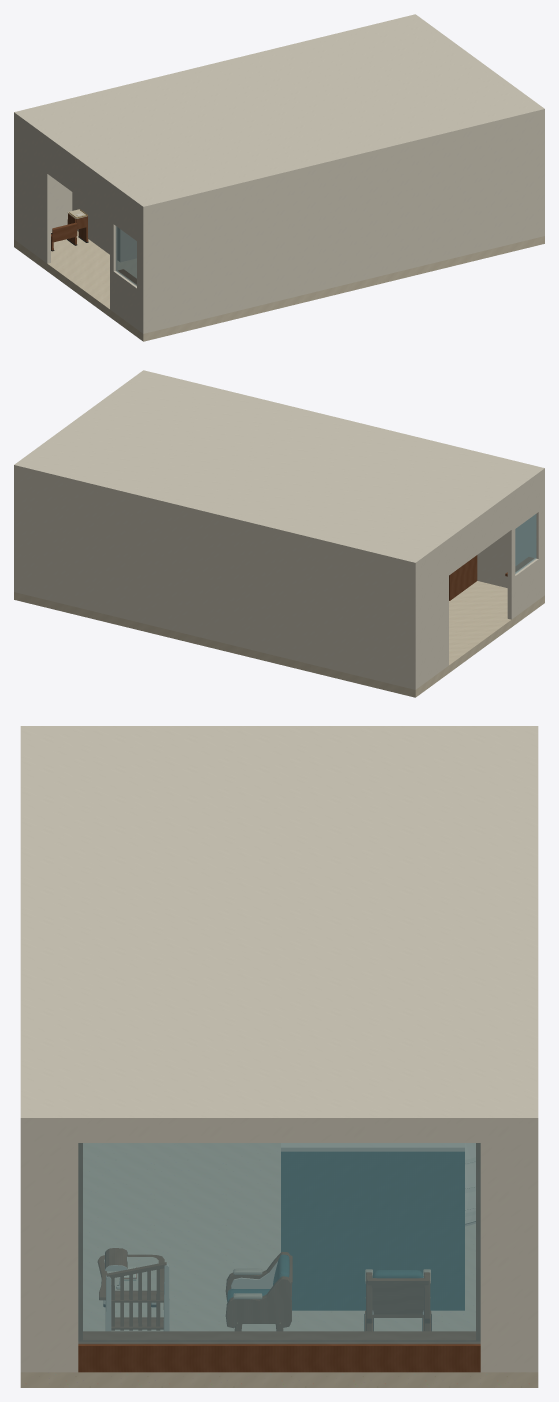
Rendered from QuietGroveBank_385_r001.glb.
3 views of the same model, one above another, from view 1: azimuth 30°, elevation 25°; view 2: azimuth 150°, elevation 25°; view 3: azimuth 270°, elevation 25° (orthographic). The views are drawn at different scales.
Visible parts, largest first — view 1: QG385_Ceiling, QG385_NorthSide, QG385_RoomFloor, QG385_EntryShoulderSouth, QG385_EntryHeader, QG385_StreetWindowLower, QG385_WashEntrySide, QG385_SouthSide, QG385_StreetWindowUpper, QG385_ScreenedStreetGlass, QGB385_CourtSouthPier; view 2: QG385_Ceiling, QG385_SouthSide, QG385_RoomFloor, QG385_EntryShoulderSouth, QG385_NorthSide, QG385_EntryHeader, QG385_StreetWindowLower, QG385_StreetWindowUpper, QG385_ScreenedStreetGlass, QG385_EntryPrivacyDogleg, QG385_StreetWindowInnerMullion; view 3: QG385_Ceiling, QGB385_PrivateCourtGlass, QG385_RoomFloor, QG385_Cocoon01_RearLiner, QGB385_CourtNorthPier, QGB385_CourtSouthPier, QGB385_CourtSill, QGB385_CourtHeader, QGB385_DeepReveal_0.34, QG385_SouthSide, QG385_NorthSide, QG385_QG385_DayReadingChair__DAY_CHAIR_L_swept_walnut_cheek (+5 smaller).
Boxes of the visible parts, x1=… form: QG385_Ceiling: x1=14, y1=14, x2=544, y2=211; QG385_NorthSide: x1=141, y1=114, x2=544, y2=333; QG385_RoomFloor: x1=14, y1=231, x2=544, y2=341; QG385_EntryShoulderSouth: x1=16, y1=119, x2=50, y2=263; QG385_EntryHeader: x1=47, y1=142, x2=110, y2=219; QG385_StreetWindowLower: x1=110, y1=269, x2=141, y2=331; QG385_WashEntrySide: x1=72, y1=192, x2=123, y2=261; QG385_SouthSide: x1=14, y1=117, x2=72, y2=240; QG385_StreetWindowUpper: x1=110, y1=188, x2=141, y2=243; QG385_ScreenedStreetGlass: x1=115, y1=226, x2=136, y2=285; QGB385_CourtSouthPier: x1=537, y1=114, x2=544, y2=236; QG385_Ceiling: x1=14, y1=370, x2=544, y2=567; QG385_SouthSide: x1=14, y1=470, x2=417, y2=689; QG385_RoomFloor: x1=14, y1=581, x2=544, y2=697; QG385_EntryShoulderSouth: x1=417, y1=544, x2=448, y2=687; QG385_NorthSide: x1=477, y1=473, x2=544, y2=596; QG385_EntryHeader: x1=448, y1=497, x2=512, y2=575; QG385_StreetWindowLower: x1=507, y1=556, x2=542, y2=619; QG385_StreetWindowUpper: x1=510, y1=475, x2=542, y2=531; QG385_ScreenedStreetGlass: x1=515, y1=514, x2=536, y2=573; QG385_EntryPrivacyDogleg: x1=449, y1=555, x2=477, y2=600; QG385_StreetWindowInnerMullion: x1=507, y1=529, x2=515, y2=578; QG385_Ceiling: x1=20, y1=726, x2=538, y2=1128; QGB385_PrivateCourtGlass: x1=78, y1=1143, x2=480, y2=1343; QG385_RoomFloor: x1=20, y1=1143, x2=538, y2=1387; QG385_Cocoon01_RearLiner: x1=285, y1=1152, x2=460, y2=1310; QGB385_CourtNorthPier: x1=480, y1=1128, x2=537, y2=1372; QGB385_CourtSouthPier: x1=20, y1=1128, x2=78, y2=1372; QGB385_CourtSill: x1=78, y1=1342, x2=480, y2=1372; QGB385_CourtHeader: x1=78, y1=1128, x2=480, y2=1142; QGB385_DeepReveal_0.34: x1=83, y1=1331, x2=475, y2=1341; QG385_SouthSide: x1=529, y1=1128, x2=538, y2=1372; QG385_NorthSide: x1=20, y1=1128, x2=29, y2=1372; QG385_QG385_DayReadingChair__DAY_CHAIR_L_swept_walnut_cheek: x1=226, y1=1276, x2=291, y2=1327.
Size of the model in its own units: 12.9 by 4.14 by 7.2.
64 materials, 49 textured.
